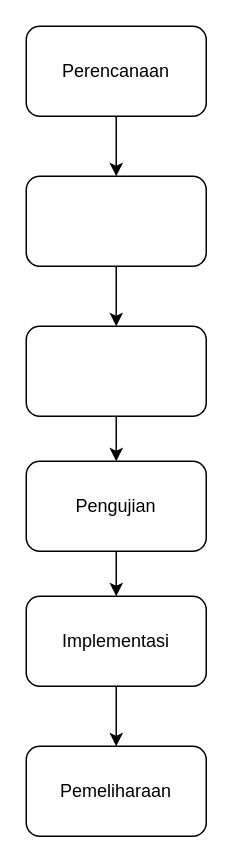
The diagram is 233 pixels wide and 863 high, and some of its shapes have lost their labels. The centre of each missing label's shape, as x and y in pixels:
"Analisis" belongs at point (115, 220).
"Perancangan" belongs at point (115, 370).
